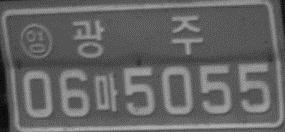0: (161, 65, 194, 115), (22, 70, 53, 119)
5: (236, 62, 272, 113), (198, 63, 232, 114), (122, 65, 155, 116)
6: (58, 68, 91, 118)
광주_D: (71, 14, 203, 58)
마: (92, 72, 119, 112)
영: (18, 22, 53, 60)
